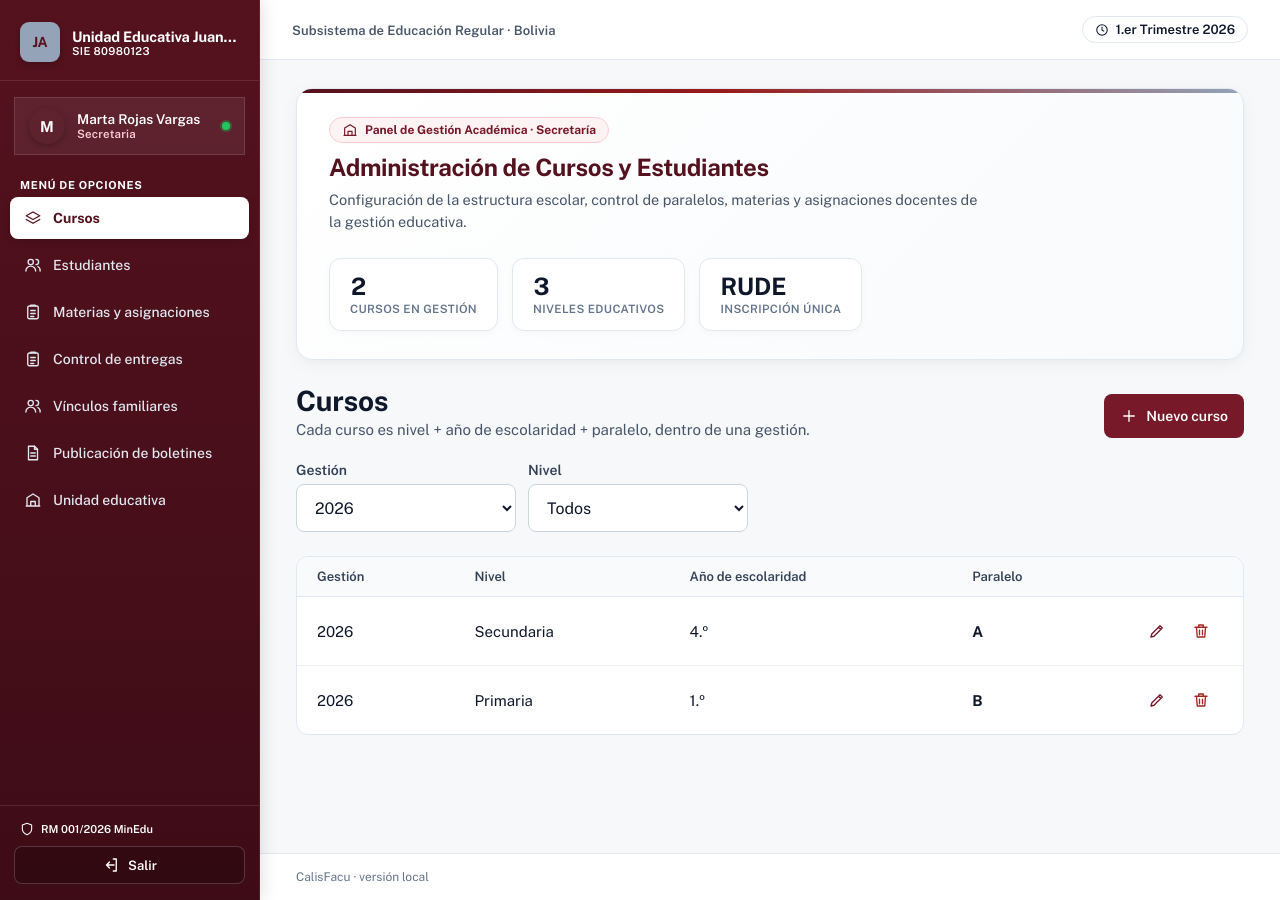
Test case: Cursos (US-18, criterio 1) › debe pedir confirmación antes de eliminar y mostrar si la API lo impide
Click the button named "Eliminar Secundaria 4.º «A»" at (1201,631), box [1179, 609, 1223, 653]
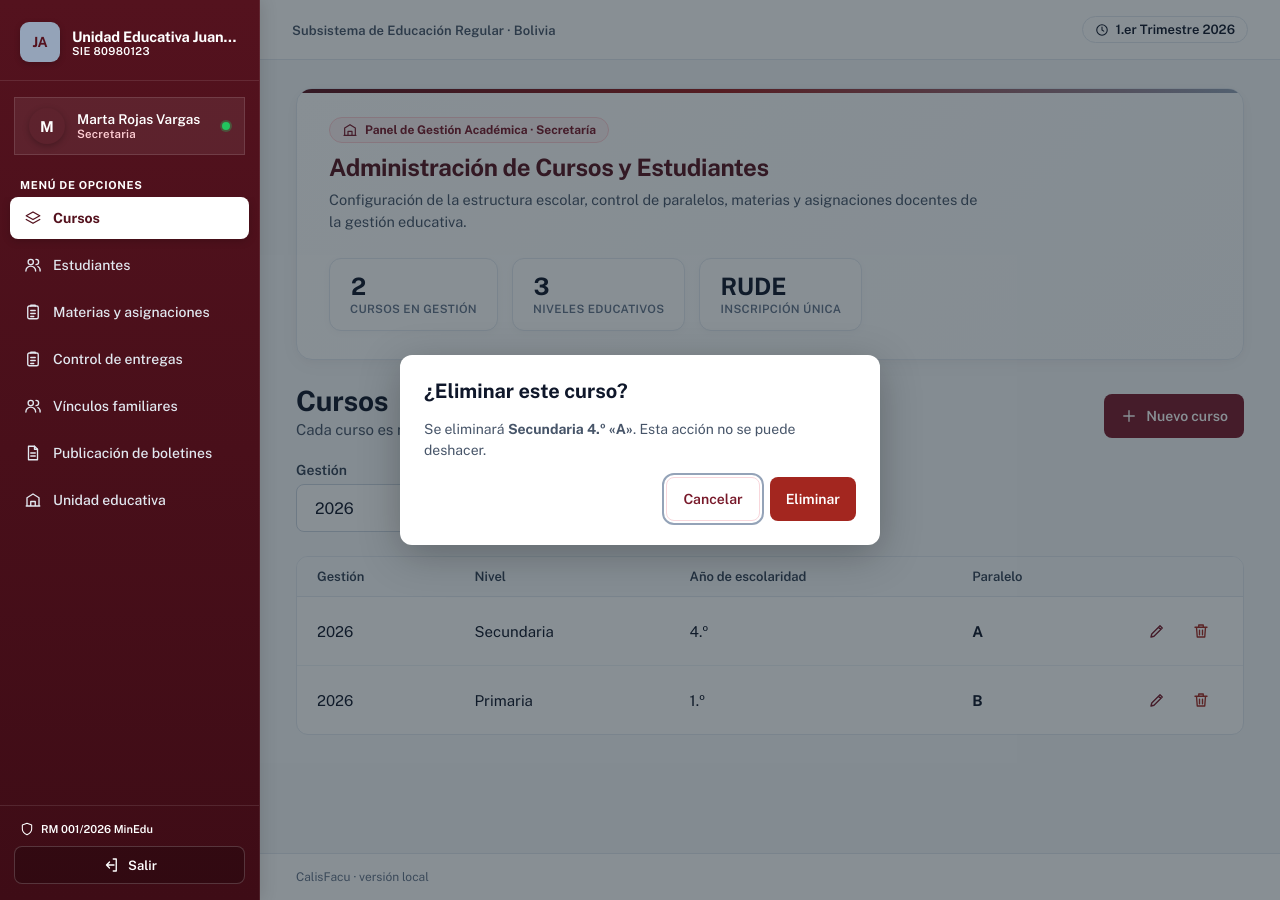
expect the dialog "¿Eliminar este curso?" shows "Se eliminará Secundaria 4.º «A». Esta acción no se puede deshacer.": met, box [400, 355, 880, 545]
Click the button "Eliminar" at (813,499), box [770, 477, 856, 521]
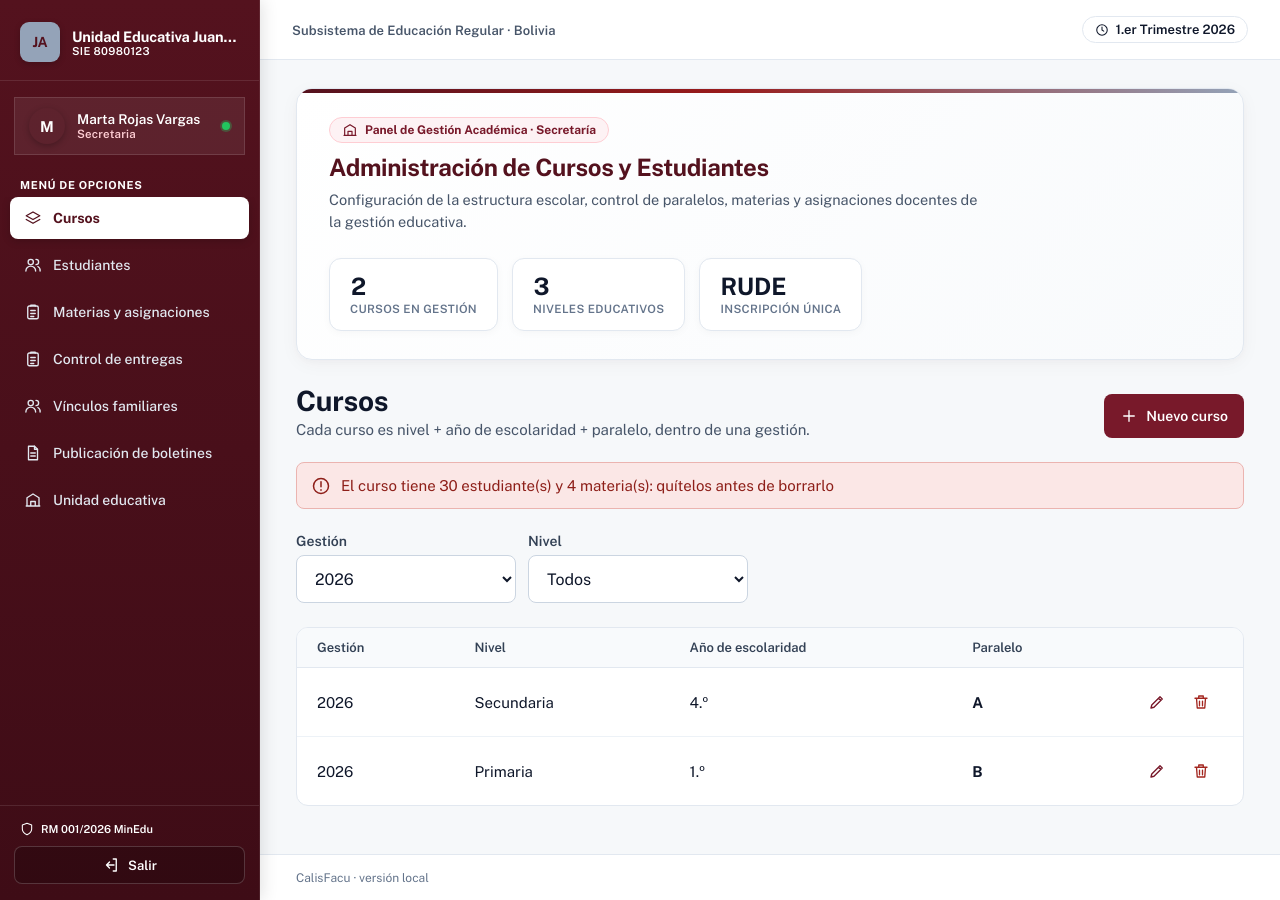
expect the text "quítelos antes de borrarlo" is shown: met, box [341, 477, 834, 494]
